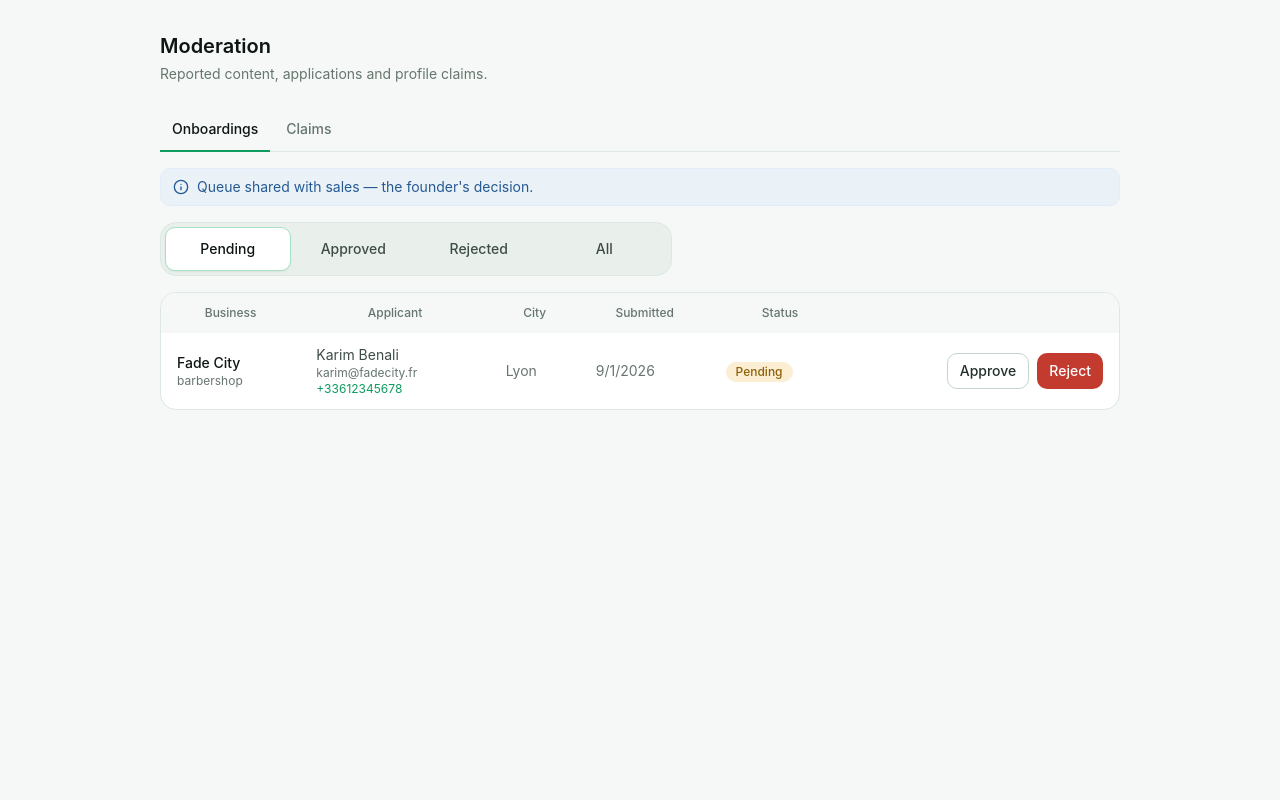
PlatformModerationPage — /platform/moderation › exige le motif de refus d’une candidature, que le serveur, lui, accepte vide
Click the button "Reject".
click(1070, 371)  # box 1037,353 -> 1103,389
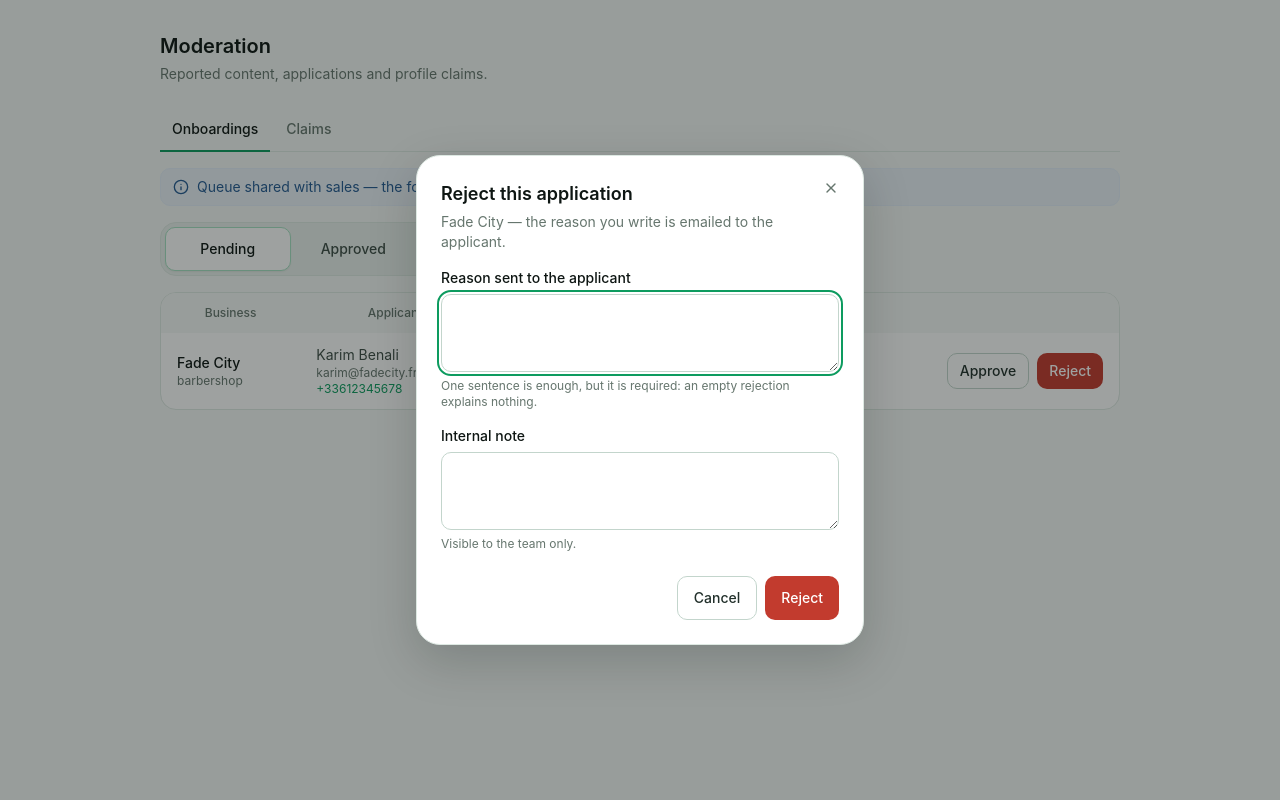
Click the button "Reject".
click(802, 598)  # box 765,576 -> 839,620
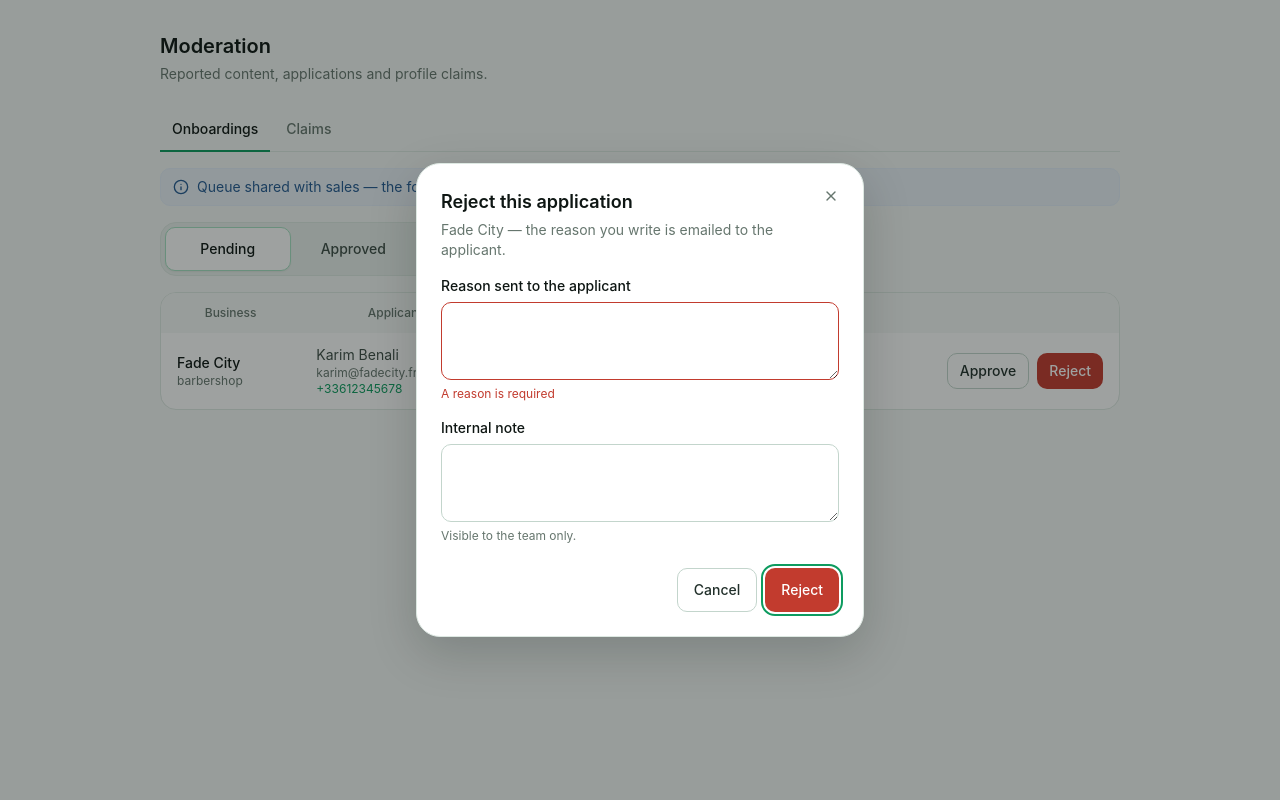
Result: the text "A reason is required" is shown at 441,386 -> 555,401
